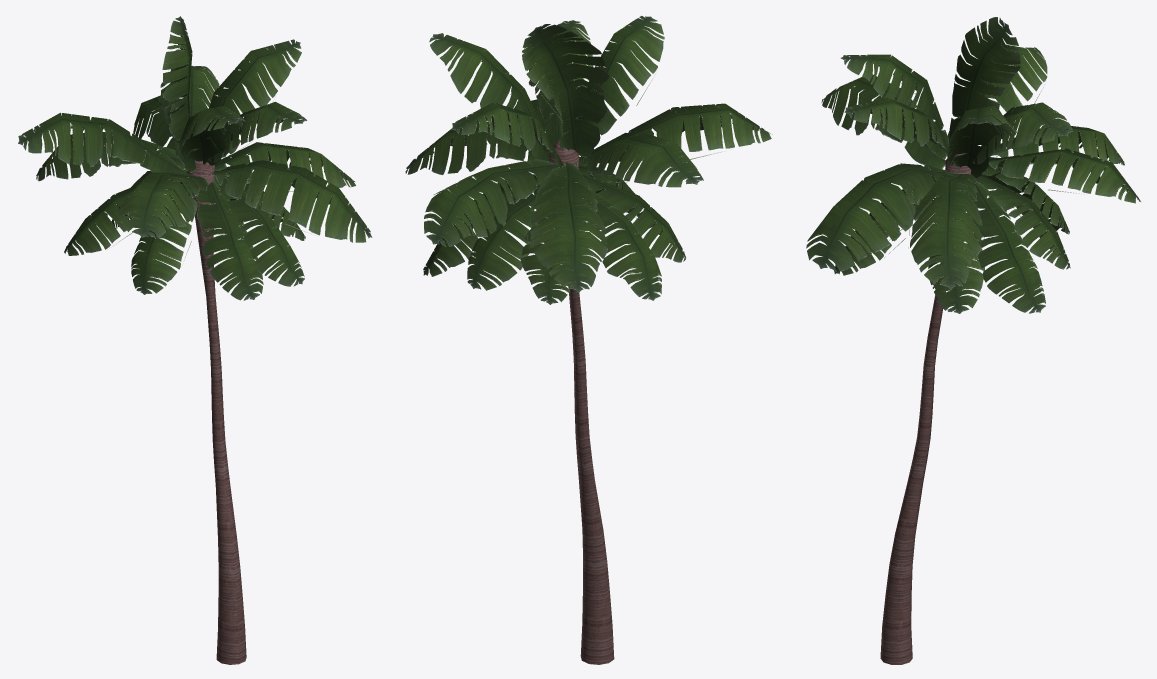
File: Ht_shu_03.FBX
3 views of the same model, side by side, from view 1: azimuth 30°, elevation 25°; view 2: azimuth 150°, elevation 25°; view 3: azimuth 270°, elevation 25° (orthographic). The views are drawn at different scales.
Parts seen in each view (by area): view 1: Ht_shu_03; view 2: Ht_shu_03; view 3: Ht_shu_03.
Boxes of the visible parts, left/top/right/bottom form: Ht_shu_03: left=18, top=16, right=372, bottom=664; Ht_shu_03: left=405, top=15, right=772, bottom=664; Ht_shu_03: left=806, top=17, right=1140, bottom=664.
Bounding box in the file's own units: 1324 × 2544 × 1217.
